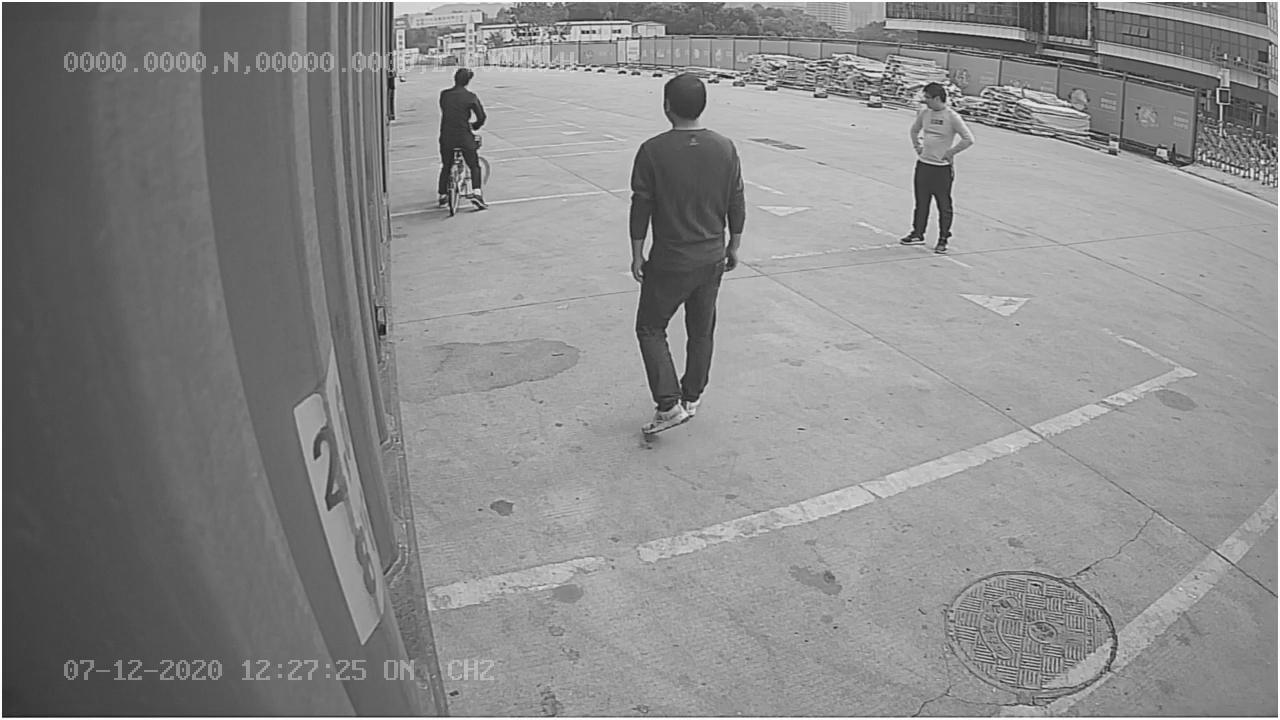person: (618, 69, 753, 438)
